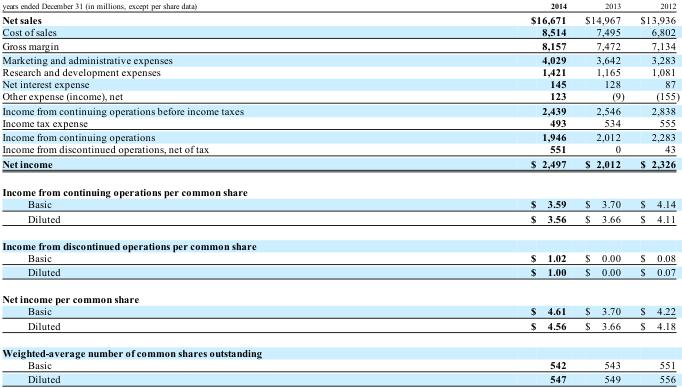table: (1, 1, 678, 384)
table column: (1, 1, 386, 384), (386, 1, 575, 384), (575, 1, 631, 384), (631, 1, 678, 384)
table column header: (1, 1, 678, 11)
table projected row header: (1, 177, 678, 197), (1, 231, 678, 251), (1, 338, 678, 358), (1, 285, 678, 304)
table row: (1, 155, 678, 177), (1, 210, 678, 231), (1, 264, 678, 285), (1, 177, 678, 197), (1, 231, 678, 251), (1, 318, 678, 338), (1, 338, 678, 358), (1, 285, 678, 304), (1, 11, 678, 25), (1, 38, 678, 52), (1, 89, 678, 103), (1, 304, 678, 318), (1, 25, 678, 38), (1, 52, 678, 65), (1, 103, 678, 116), (1, 116, 678, 129), (1, 129, 678, 142), (1, 142, 678, 155), (1, 197, 678, 210), (1, 251, 678, 264), (1, 358, 678, 371), (1, 371, 678, 384), (1, 65, 678, 77), (1, 77, 678, 89), (1, 1, 678, 11)
